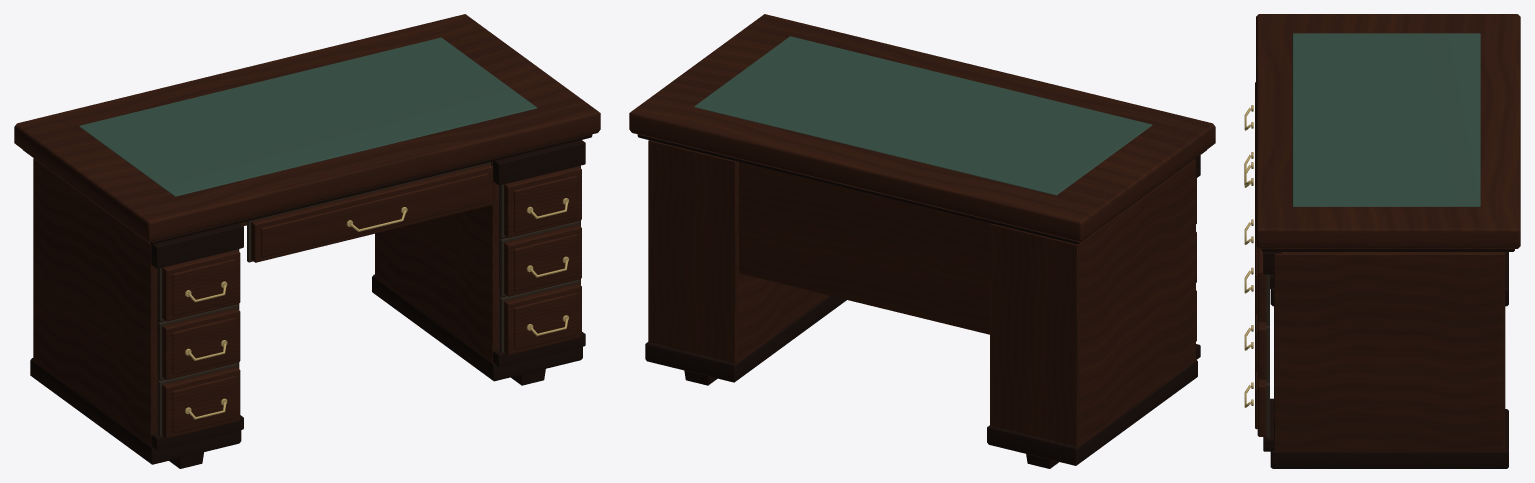
Rendered from S031_writing_desk_rebuilt.glb.
3 views of the same model, side by side, from view 1: azimuth 30°, elevation 25°; view 2: azimuth 150°, elevation 25°; view 3: azimuth 270°, elevation 25° (orthographic). The views are drawn at different scales.
Visible parts, largest first — view 1: Writing_desk_walnut, Writing_desk_green_leather_writing_inset, Writing_desk_dark_edge_and_joinery, Writing_desk_drawer_dark_reveals, Writing_desk_aged_brass_handles; view 2: Writing_desk_walnut, Writing_desk_green_leather_writing_inset, Writing_desk_dark_edge_and_joinery; view 3: Writing_desk_walnut, Writing_desk_green_leather_writing_inset, Writing_desk_dark_edge_and_joinery, Writing_desk_aged_brass_handles, Writing_desk_drawer_dark_reveals.
Part boxes in pixels (x1=…): Writing_desk_walnut: x1=14, y1=14, x2=600, y2=446; Writing_desk_green_leather_writing_inset: x1=79, y1=37, x2=537, y2=196; Writing_desk_dark_edge_and_joinery: x1=23, y1=134, x2=592, y2=468; Writing_desk_drawer_dark_reveals: x1=158, y1=162, x2=579, y2=436; Writing_desk_aged_brass_handles: x1=185, y1=198, x2=569, y2=419; Writing_desk_walnut: x1=629, y1=14, x2=1215, y2=446; Writing_desk_green_leather_writing_inset: x1=694, y1=36, x2=1152, y2=195; Writing_desk_dark_edge_and_joinery: x1=637, y1=134, x2=1206, y2=468; Writing_desk_walnut: x1=1255, y1=14, x2=1520, y2=451; Writing_desk_green_leather_writing_inset: x1=1292, y1=33, x2=1480, y2=206; Writing_desk_dark_edge_and_joinery: x1=1261, y1=249, x2=1514, y2=468; Writing_desk_aged_brass_handles: x1=1244, y1=105, x2=1253, y2=407; Writing_desk_drawer_dark_reveals: x1=1266, y1=274, x2=1269, y2=437.
Bounding box in the file's own units: 1.5 × 0.85 × 0.81.
Materials: 5 (2 with a texture image).
